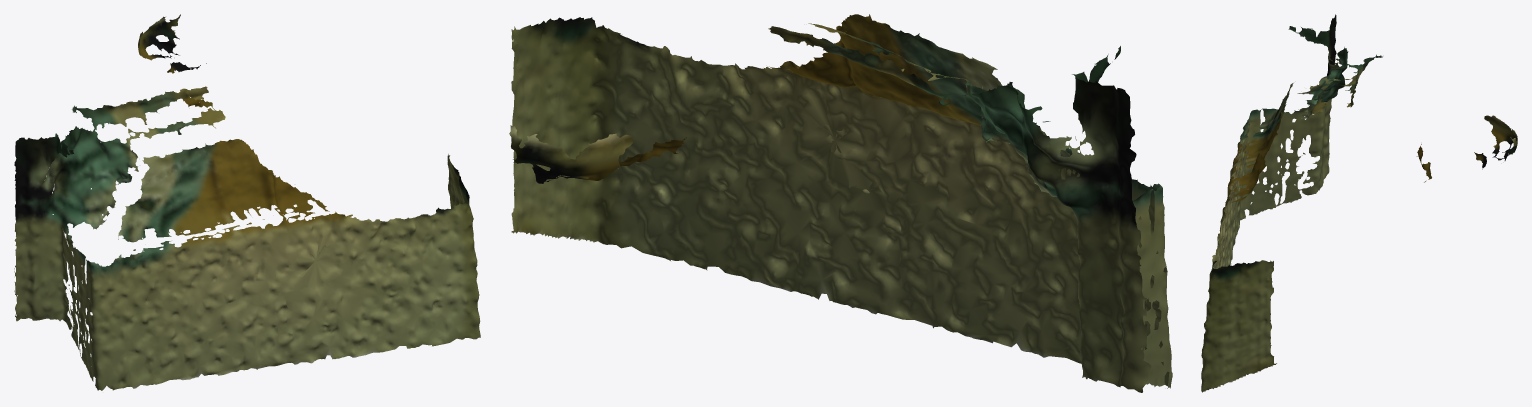
File: color_model_f009_20260209_014331.obj
3 renders of one model, left to right at view 1: azimuth 30°, elevation 25°; view 2: azimuth 150°, elevation 25°; view 3: azimuth 270°, elevation 25°, orthographic. The views are drawn at different scales.
Size of the model in its own units: 1.98 by 1.12 by 1.51.
